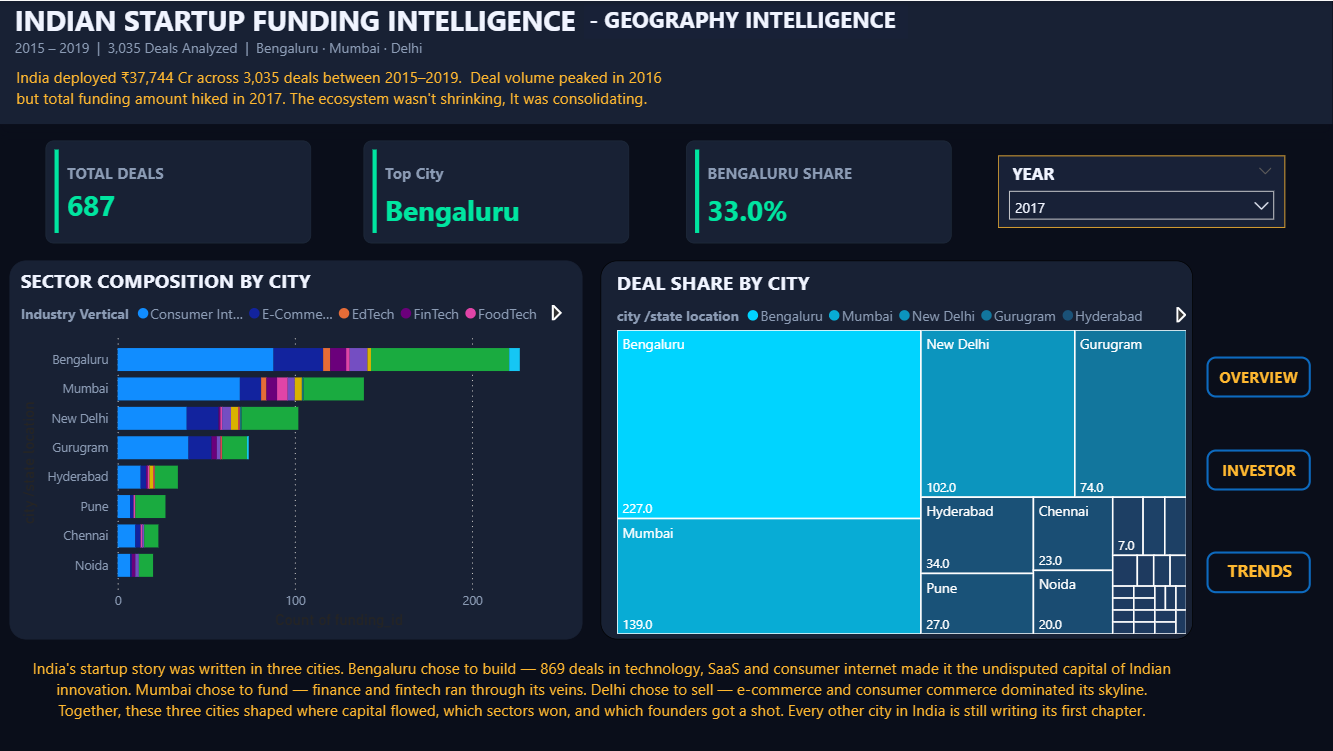

The page's visual inventory and layout, read from the dashboard file:
{"tool":"powerbi","page":{"name":" Page2_Geography","canvas":[1280,720],"ordinal":1},"visuals":[{"type":"textbox","title":"INDIAN STARTUP FUNDING INTELLIGENCE","box":[0,0,1279.5,118.1],"z":0},{"type":"cardVisual","title":"TOTAL DEALS","fields":{"Data":["CountNonNull(fact_funding.funding_id)"]},"box":[43.9,133.3,254.4,98.4],"z":1000},{"type":"cardVisual","fields":{"Data":["fact_funding.Top City"]},"box":[349.8,133.3,254.4,98.4],"z":2000},{"type":"cardVisual","fields":{"Data":["fact_funding.BENGALURU SHARE"]},"box":[658.7,133.3,254.4,98.4],"z":3000},{"type":"treemap","title":"DEAL SHARE BY CITY","fields":{"Group":["dim_startup.city /state location"],"Values":["CountNonNull(fact_funding.funding_id)"]},"box":[576.9,248.3,567.8,363.4],"z":4000},{"type":"barChart","title":"SECTOR COMPOSITION BY CITY","fields":{"Y":["CountNonNull(fact_funding.funding_id)"],"Category":["dim_startup.city /state location"],"Series":["dim_startup.industry_vertical"]},"box":[10.6,248.3,549.7,363.4],"z":5000},{"type":"textbox","box":[10.8,57.5,825,60.8],"z":6000},{"type":"textbox","box":[21.2,623.9,1112.9,80.3],"z":7000},{"type":"slicer","fields":{"Values":["dim_date.year"]},"box":[958.5,148.4,275.6,69.7],"z":8000},{"type":"textbox","title":"- GEOGRAPHY INTELLIGENCE","box":[560.3,3,310.4,33.3],"z":9000},{"type":"actionButton","title":"OVERVIEW","box":[1158.4,340.7,99.9,39.4],"z":9001},{"type":"actionButton","title":"INVESTOR","box":[1158.4,430,99.9,39.4],"z":9002},{"type":"actionButton","title":"TRENDS","box":[1158.4,528.5,100,40],"z":9003}]}

Visuals, with their boxes in screenshot pixels (x1, y1, x2, y2), scaled from the page's 1280x720 canvas onto the 1333x751 screenshot:
"INDIAN STARTUP FUNDING INTELLIGENCE" textbox: 0, 0, 1332, 123
"TOTAL DEALS" cardVisual: 46, 139, 311, 242
cardVisual - fact_funding.Top City: 364, 139, 629, 242
cardVisual - fact_funding.BENGALURU SHARE: 686, 139, 951, 242
"DEAL SHARE BY CITY" treemap: 601, 259, 1192, 638
"SECTOR COMPOSITION BY CITY" barChart: 11, 259, 583, 638
textbox: 11, 60, 870, 123
textbox: 22, 651, 1181, 735
slicer - dim_date.year: 998, 155, 1285, 227
"- GEOGRAPHY INTELLIGENCE" textbox: 583, 3, 907, 38
"OVERVIEW" actionButton: 1206, 355, 1310, 396
"INVESTOR" actionButton: 1206, 449, 1310, 490
"TRENDS" actionButton: 1206, 551, 1311, 593
